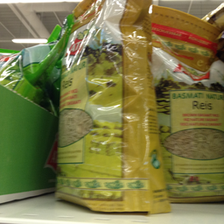rice: (60, 1, 170, 215), (151, 44, 224, 203)
